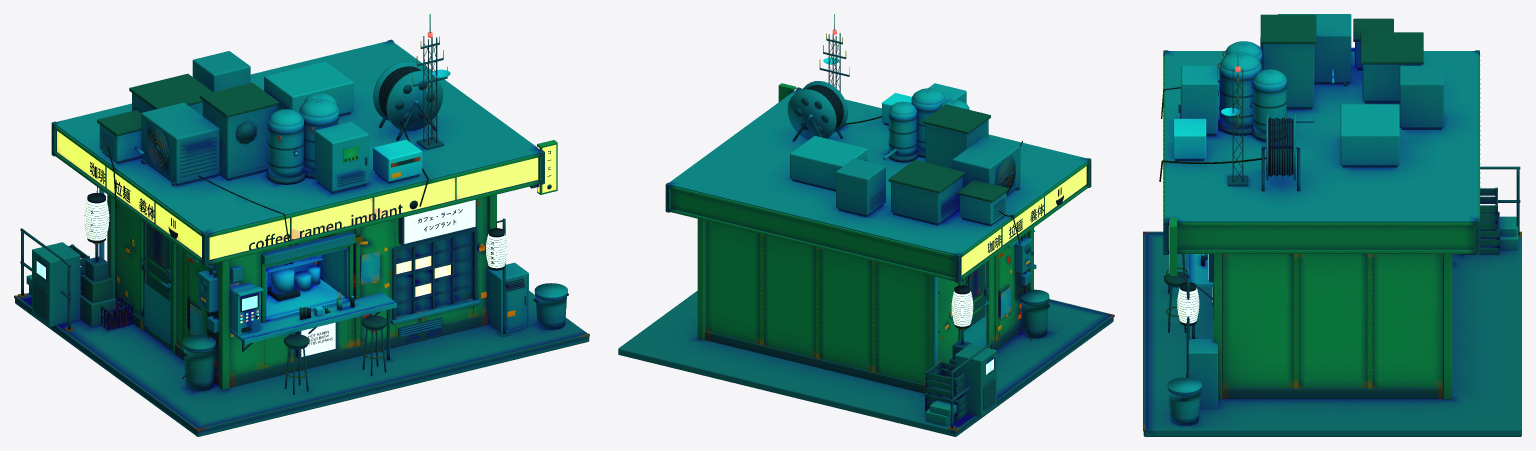
Rendered from kiosk_detail.glb.
3 views of the same model, side by side, from view 1: azimuth 30°, elevation 25°; view 2: azimuth 150°, elevation 25°; view 3: azimuth 270°, elevation 25° (orthographic). The views are drawn at different scales.
Visible parts, largest first — view 1: SM_Kiosk_Canopy, SM_Kiosk_Roof, SM_Kiosk_Ground, SM_Kiosk_Body, SM_Kiosk_ServiceSide, SM_Kiosk_Props, SM_Kiosk_DoorSide; view 2: SM_Kiosk_Body, SM_Kiosk_Canopy, SM_Kiosk_Roof, SM_Kiosk_Ground, SM_Kiosk_Props, SM_Kiosk_DoorSide; view 3: SM_Kiosk_Canopy, SM_Kiosk_Body, SM_Kiosk_Ground, SM_Kiosk_Roof, SM_Kiosk_Props, SM_Kiosk_ServiceSide.
Part boxes in pixels (box(x1,y1,x2,y2)): SM_Kiosk_Canopy: box(51, 39, 557, 266); SM_Kiosk_Roof: box(97, 14, 450, 241); SM_Kiosk_Ground: box(14, 282, 589, 436); SM_Kiosk_Body: box(107, 194, 496, 390); SM_Kiosk_ServiceSide: box(229, 199, 480, 362); SM_Kiosk_Props: box(17, 187, 568, 394); SM_Kiosk_DoorSide: box(139, 218, 176, 354); SM_Kiosk_Body: box(697, 219, 1033, 395); SM_Kiosk_Canopy: box(665, 83, 1091, 283); SM_Kiosk_Roof: box(787, 14, 1022, 244); SM_Kiosk_Ground: box(618, 291, 1114, 436); SM_Kiosk_Props: box(925, 233, 1049, 429); SM_Kiosk_DoorSide: box(958, 259, 990, 348); SM_Kiosk_Canopy: box(1163, 50, 1480, 276); SM_Kiosk_Body: box(1213, 254, 1452, 399); SM_Kiosk_Ground: box(1143, 231, 1521, 436); SM_Kiosk_Roof: box(1159, 14, 1443, 191); SM_Kiosk_Props: box(1164, 166, 1521, 425); SM_Kiosk_ServiceSide: box(1188, 254, 1213, 338).
Size of the model in its own units: 6.41 by 4.95 by 5.11.
